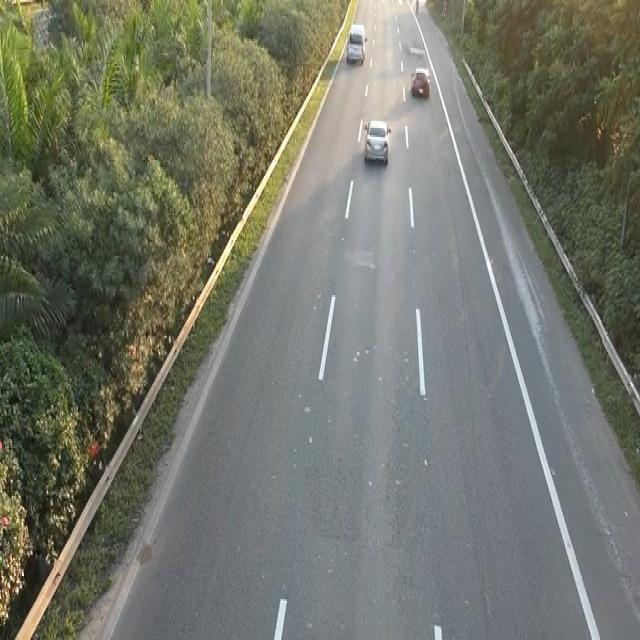bus: (360, 114, 394, 172), (409, 64, 431, 98)
jeep: (344, 21, 368, 66)
